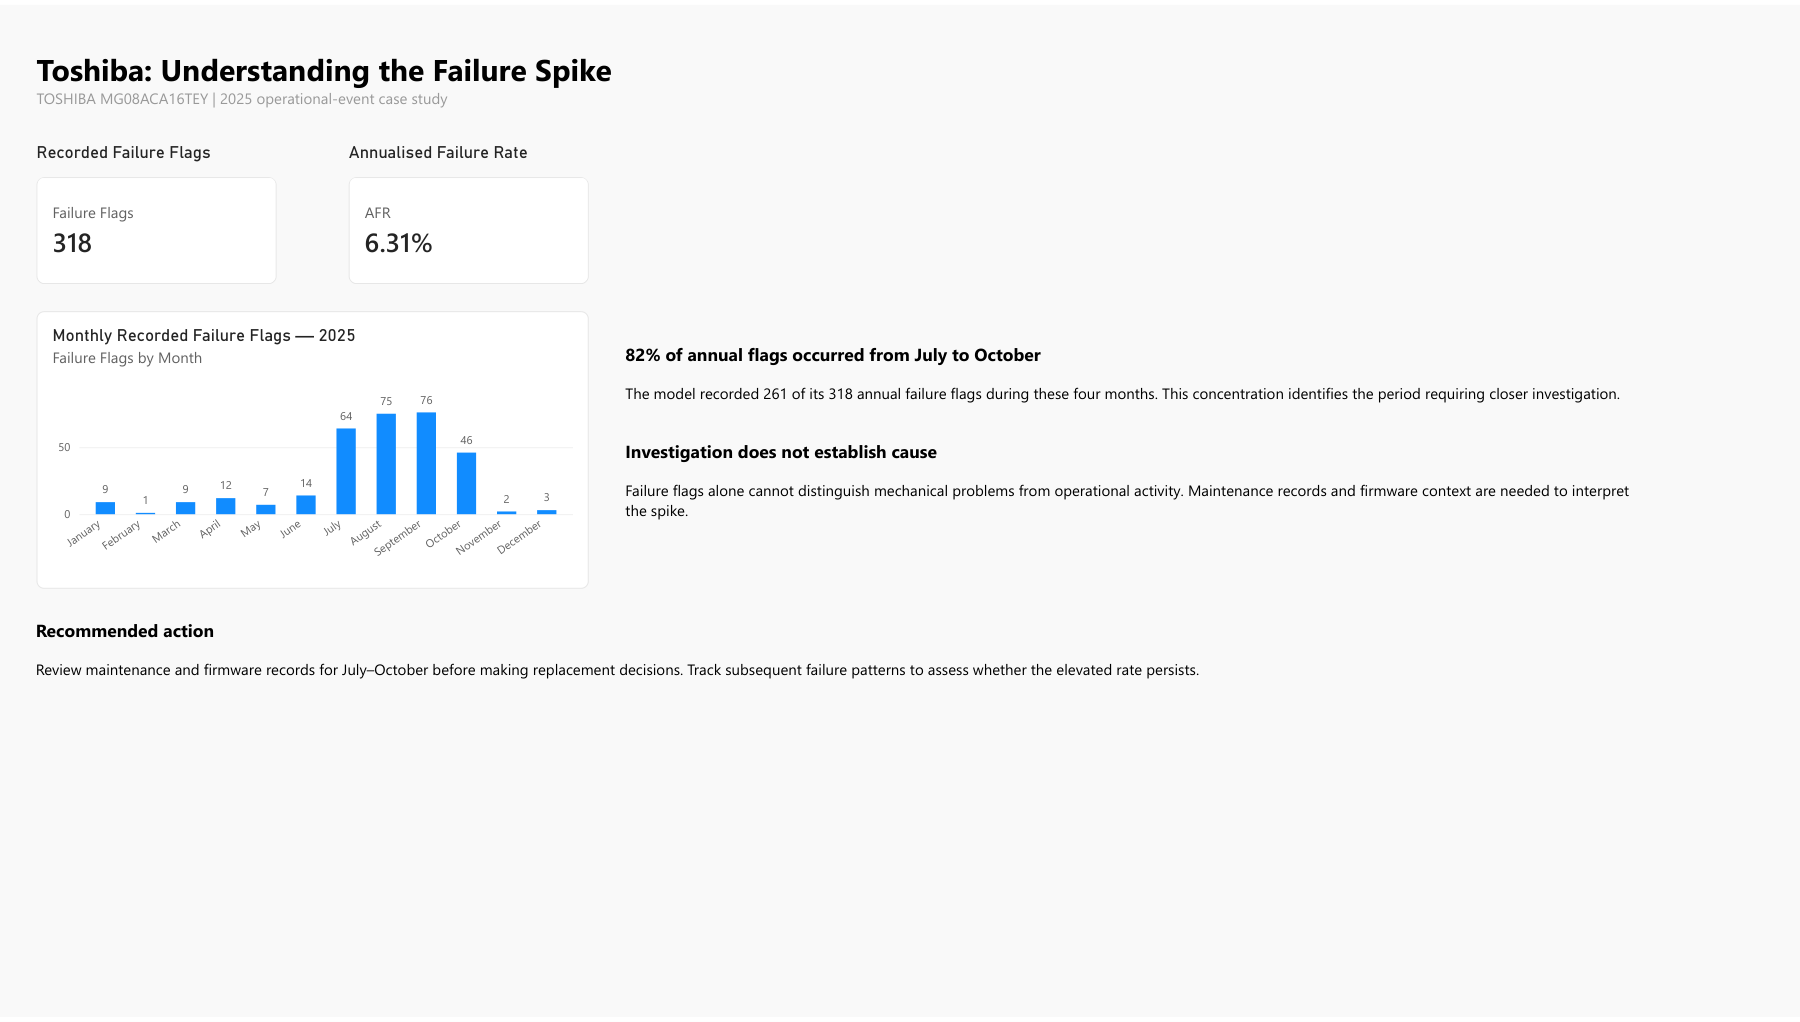

The page's visual inventory and layout, read from the dashboard file:
{"tool":"powerbi","page":{"name":"Toshiba Case Study","canvas":[1920,1080],"ordinal":2},"visuals":[{"type":"textbox","box":[38.6,45.6,628.1,73.7],"z":0},{"type":"cardVisual","title":"Recorded Failure Flags","fields":{"Data":["daily_model_summary.Failure Flags"]},"box":[38.6,147.4,256.1,150.9],"z":1000},{"type":"cardVisual","title":"Annualised Failure Rate","fields":{"Data":["daily_model_summary.AFR"]},"box":[371.9,147.4,256,151],"z":2000},{"type":"clusteredColumnChart","title":"Monthly Recorded Failure Flags — 2025","fields":{"Category":["daily_model_summary.date.Variation.Date Hierarchy.Month"],"Y":["daily_model_summary.Failure Flags"]},"box":[39.1,326.6,589.5,296.5],"z":3000},{"type":"textbox","box":[666.7,359.6,1078.9,115.8],"z":4000},{"type":"textbox","box":[666.7,463.2,1078.9,112.3],"z":5000},{"type":"textbox","box":[38.1,654,1243.1,139.2],"z":5001}]}

Visuals, with their boxes in screenshot pixels (x1, y1, x2, y2), scaled from the page's 1920x1080 canvas onto the 1800x1022 screenshot:
textbox: box=[36, 43, 625, 113]
"Recorded Failure Flags" cardVisual: box=[36, 139, 276, 282]
"Annualised Failure Rate" cardVisual: box=[349, 139, 589, 282]
"Monthly Recorded Failure Flags — 2025" clusteredColumnChart: box=[37, 309, 589, 590]
textbox: box=[625, 340, 1637, 450]
textbox: box=[625, 438, 1637, 545]
textbox: box=[36, 619, 1201, 751]
